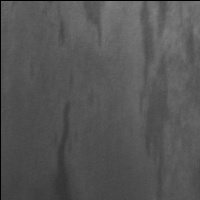inclusion: (137, 2, 198, 200), (50, 98, 78, 200), (80, 2, 109, 51), (47, 2, 70, 49)
